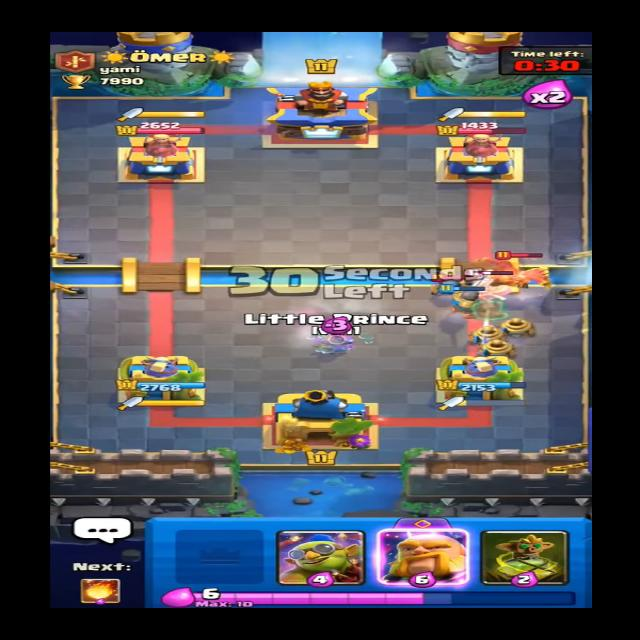mini-pekka: (428, 266, 477, 292)
monk: (458, 266, 519, 310)
monk-ability: (449, 264, 523, 303)
phoenix: (480, 246, 592, 296)
